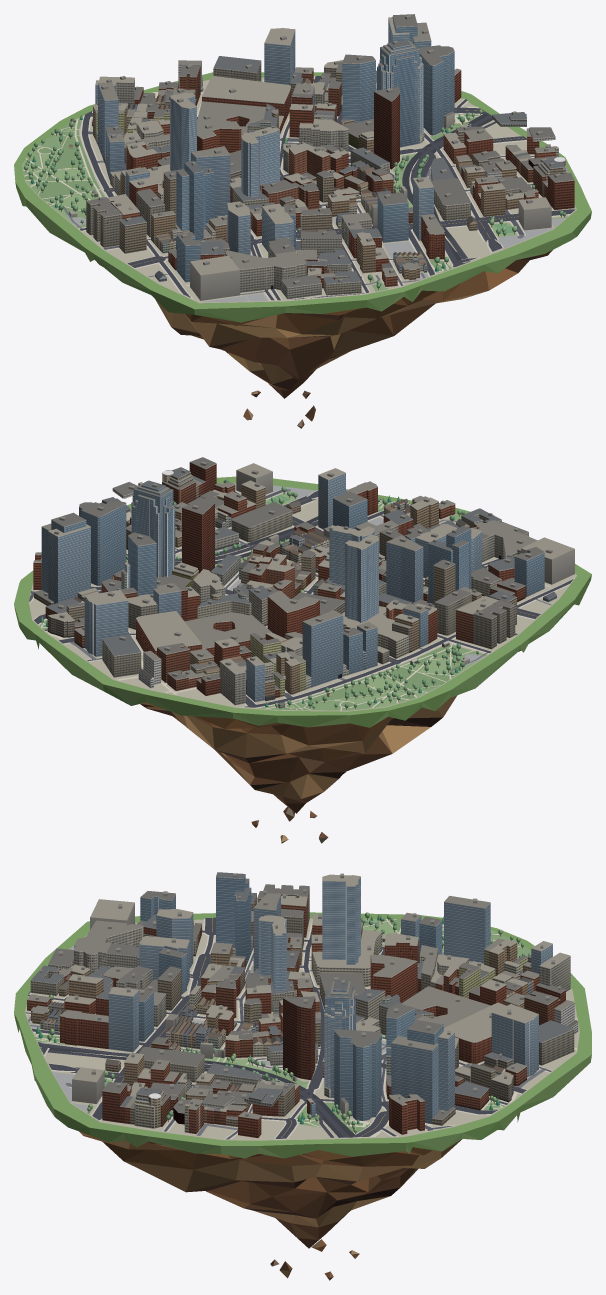
The model's file is segment-place-chncl.glb.
The picture shows the model from 3 angles, top to bottom: view 1: azimuth 30°, elevation 25°; view 2: azimuth 150°, elevation 25°; view 3: azimuth 270°, elevation 25°; orthographic projection. The views are drawn at different scales.
Parts seen in each view (by area): view 1: Masonry, foliage and streets, Glass curtain wall, Brick walk-up elevations, Island earth and rock, Stone institutional elevations, Island turf, Clapboard house elevations; view 2: Masonry, foliage and streets, Glass curtain wall, Brick walk-up elevations, Island earth and rock, Island turf, Stone institutional elevations, Clapboard house elevations; view 3: Masonry, foliage and streets, Glass curtain wall, Brick walk-up elevations, Island earth and rock, Island turf, Stone institutional elevations, Clapboard house elevations.
Part boxes in pixels (bbox=[...]): Masonry, foliage and streets: bbox=[22, 14, 576, 303]; Glass curtain wall: bbox=[95, 17, 471, 282]; Brick walk-up elevations: bbox=[93, 62, 574, 288]; Island earth and rock: bbox=[97, 250, 552, 428]; Stone institutional elevations: bbox=[70, 62, 555, 299]; Island turf: bbox=[14, 72, 591, 322]; Clapboard house elevations: bbox=[97, 77, 566, 281]; Masonry, foliage and streets: bbox=[29, 457, 576, 711]; Glass curtain wall: bbox=[41, 473, 544, 702]; Brick walk-up elevations: bbox=[33, 462, 525, 697]; Island earth and rock: bbox=[140, 650, 520, 843]; Island turf: bbox=[14, 476, 591, 727]; Stone institutional elevations: bbox=[102, 485, 528, 708]; Clapboard house elevations: bbox=[83, 473, 556, 696]; Masonry, foliage and streets: bbox=[25, 872, 579, 1140]; Glass curtain wall: bbox=[108, 875, 552, 1123]; Brick walk-up elevations: bbox=[27, 893, 574, 1137]; Island earth and rock: bbox=[79, 1131, 462, 1280]; Island turf: bbox=[14, 912, 591, 1158]; Stone institutional elevations: bbox=[30, 886, 574, 1116]; Clapboard house elevations: bbox=[40, 932, 578, 1132].
Size of the model in its own units: 0.8542 by 0.6015 by 0.8904.
Materials: 8 (5 with a texture image).
